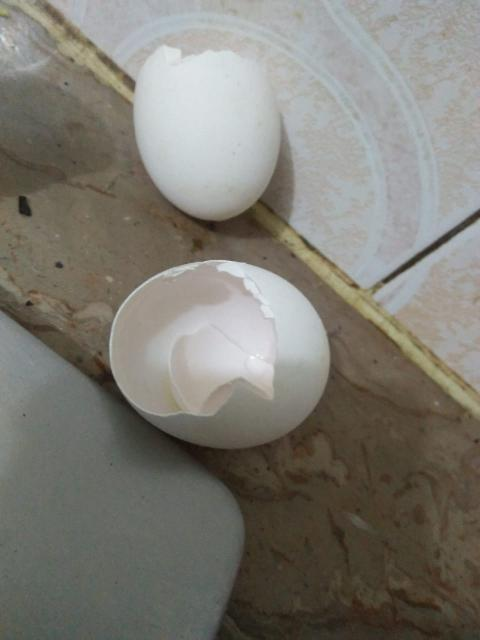Roto: (108, 258, 331, 450), (132, 44, 282, 222)
